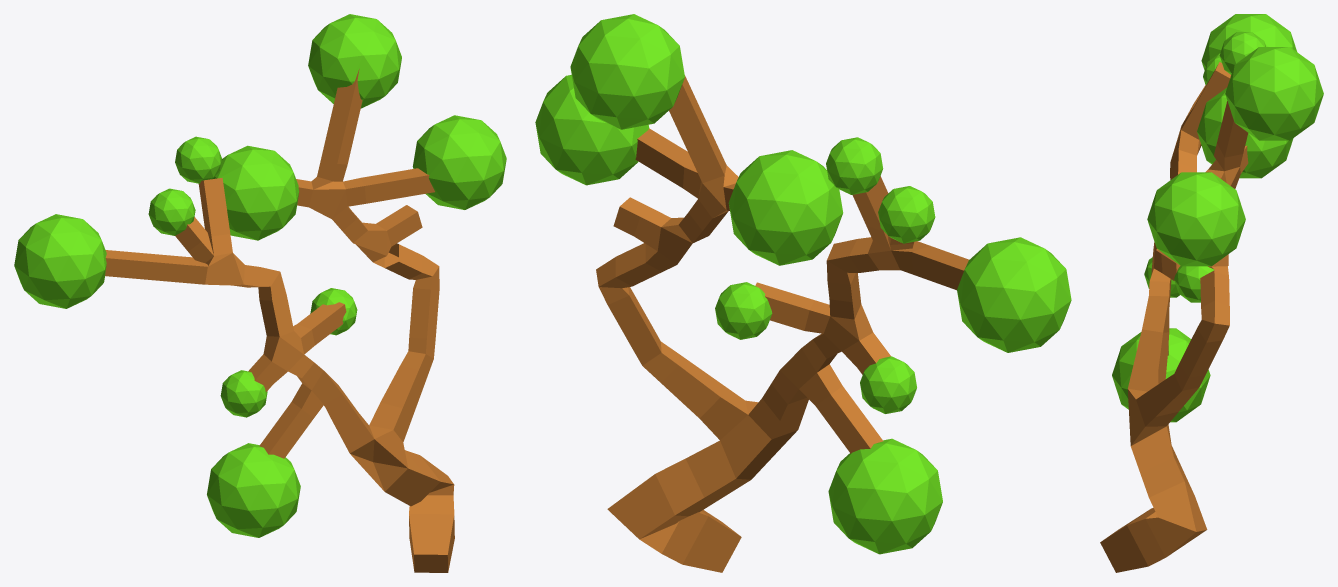
File: tree01.fbx
3 views of the same model, side by side, from view 1: azimuth 30°, elevation 25°; view 2: azimuth 150°, elevation 25°; view 3: azimuth 270°, elevation 25° (orthographic). The views are drawn at different scales.
Parts seen in each view (by area): view 1: Cube, Icosphere, Icosphere.008, Icosphere.006, Icosphere.005, Icosphere.007, Icosphere.001, Icosphere.002, Icosphere.003, Icosphere.004; view 2: Cube, Icosphere.005, Icosphere, Icosphere.007, Icosphere.008, Icosphere.006, Icosphere.001, Icosphere.002, Icosphere.004, Icosphere.003; view 3: Cube, Icosphere.006, Icosphere.005, Icosphere.007, Icosphere.008, Icosphere, Icosphere.001, Icosphere.004.
Part boxes in pixels (left/top/right/bottom): Cube: left=105, top=69, right=454, bottom=572; Icosphere: left=14, top=214, right=106, bottom=308; Icosphere.008: left=207, top=443, right=300, bottom=537; Icosphere.006: left=412, top=115, right=506, bottom=209; Icosphere.005: left=308, top=14, right=401, bottom=108; Icosphere.007: left=211, top=145, right=299, bottom=240; Icosphere.001: left=175, top=136, right=221, bottom=183; Icosphere.002: left=148, top=188, right=195, bottom=235; Icosphere.003: left=220, top=370, right=267, bottom=417; Icosphere.004: left=310, top=288, right=357, bottom=335; Cube: left=596, top=75, right=968, bottom=572; Icosphere.005: left=570, top=14, right=684, bottom=129; Icosphere: left=957, top=237, right=1071, bottom=352; Icosphere.007: left=728, top=150, right=843, bottom=265; Icosphere.008: left=828, top=438, right=942, bottom=554; Icosphere.006: left=535, top=75, right=649, bottom=185; Icosphere.001: left=826, top=137, right=883, bottom=194; Icosphere.002: left=878, top=186, right=935, bottom=243; Icosphere.004: left=715, top=282, right=772, bottom=339; Icosphere.003: left=860, top=356, right=916, bottom=413; Cube: left=1100, top=62, right=1248, bottom=572; Icosphere.006: left=1147, top=172, right=1245, bottom=266; Icosphere.005: left=1225, top=47, right=1323, bottom=140; Icosphere.007: left=1197, top=88, right=1293, bottom=178; Icosphere.008: left=1112, top=328, right=1210, bottom=422; Icosphere: left=1201, top=14, right=1296, bottom=70; Icosphere.001: left=1219, top=32, right=1265, bottom=74; Icosphere.004: left=1174, top=266, right=1213, bottom=302.
Size of the model in its own units: 791 by 842 by 331.
